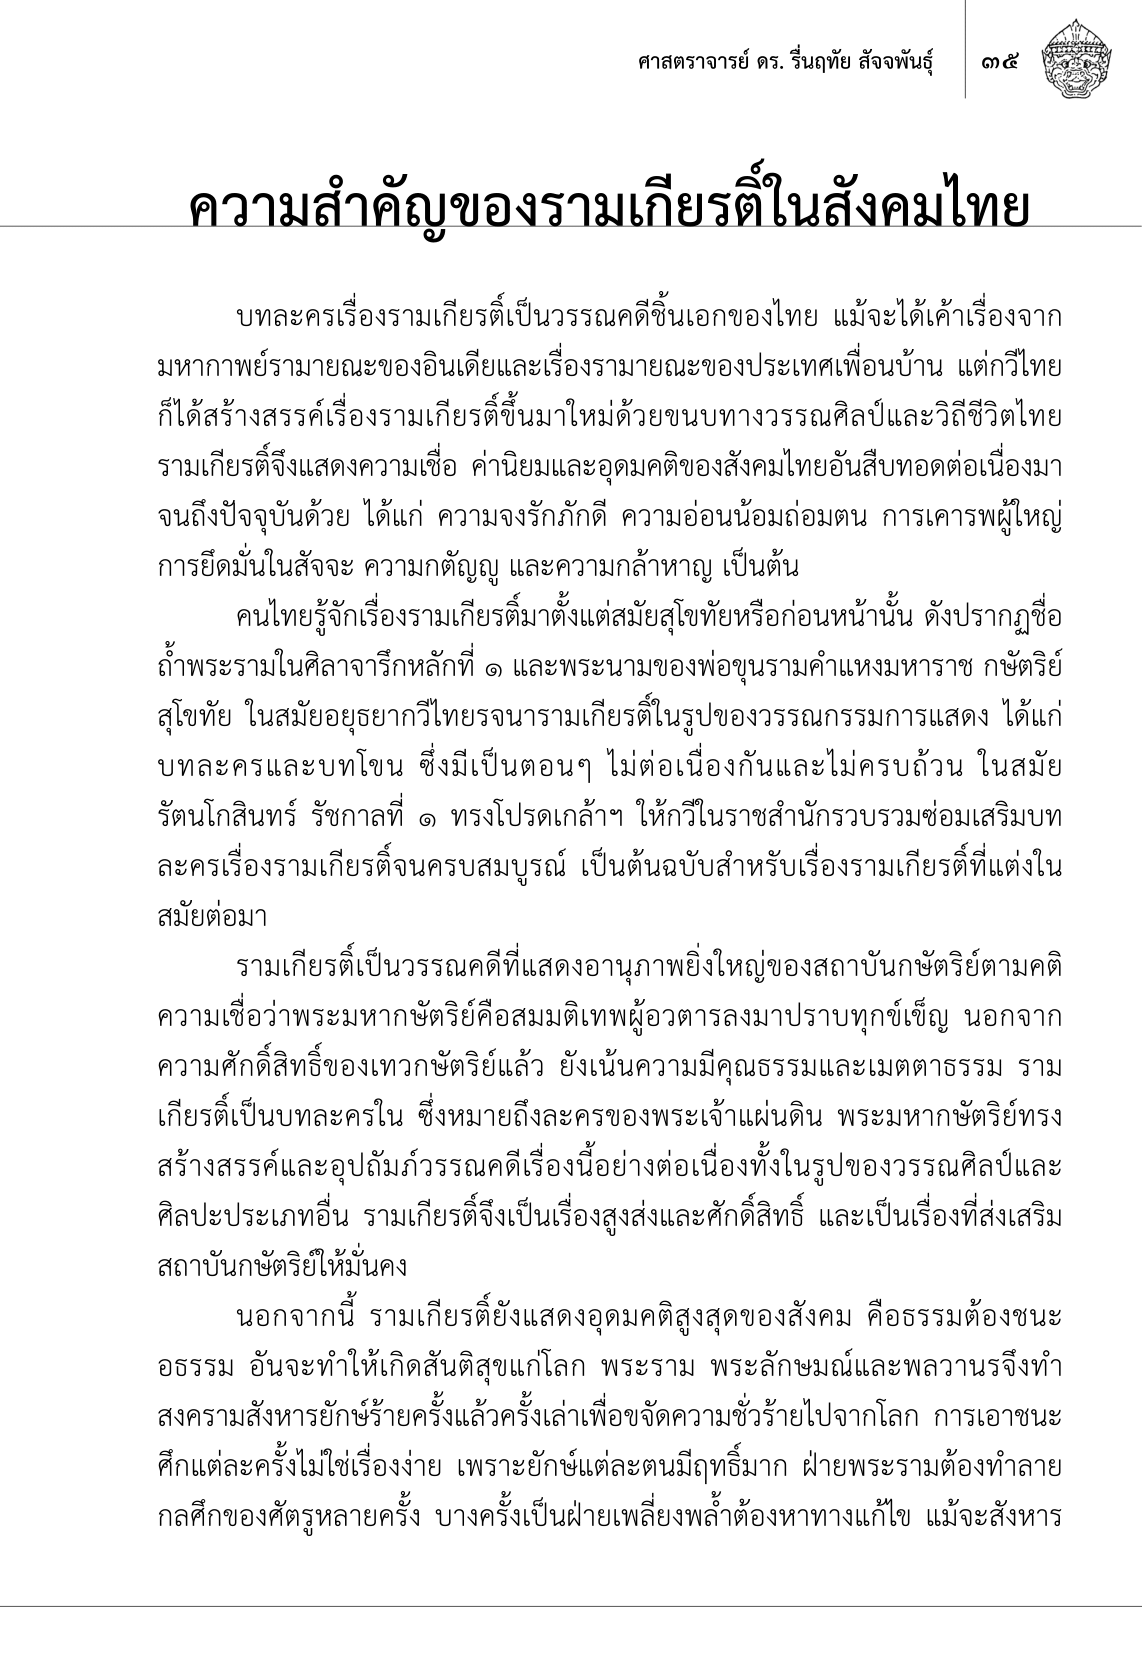thai: (153, 584, 1067, 931), (150, 936, 1067, 1279), (155, 282, 1067, 589), (151, 1287, 1067, 1545), (185, 150, 1031, 248), (636, 35, 938, 83), (979, 44, 1023, 72)
